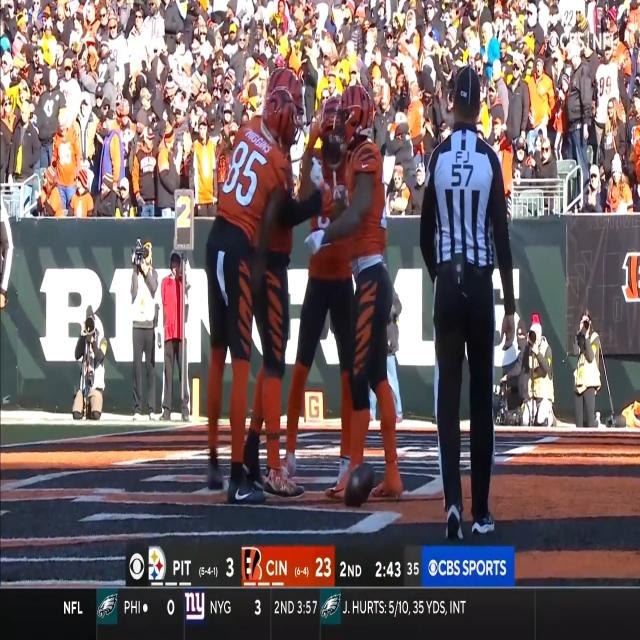football: (344, 463, 375, 506)
players: (206, 89, 302, 501), (330, 89, 405, 499), (280, 98, 356, 498), (243, 69, 306, 498)
